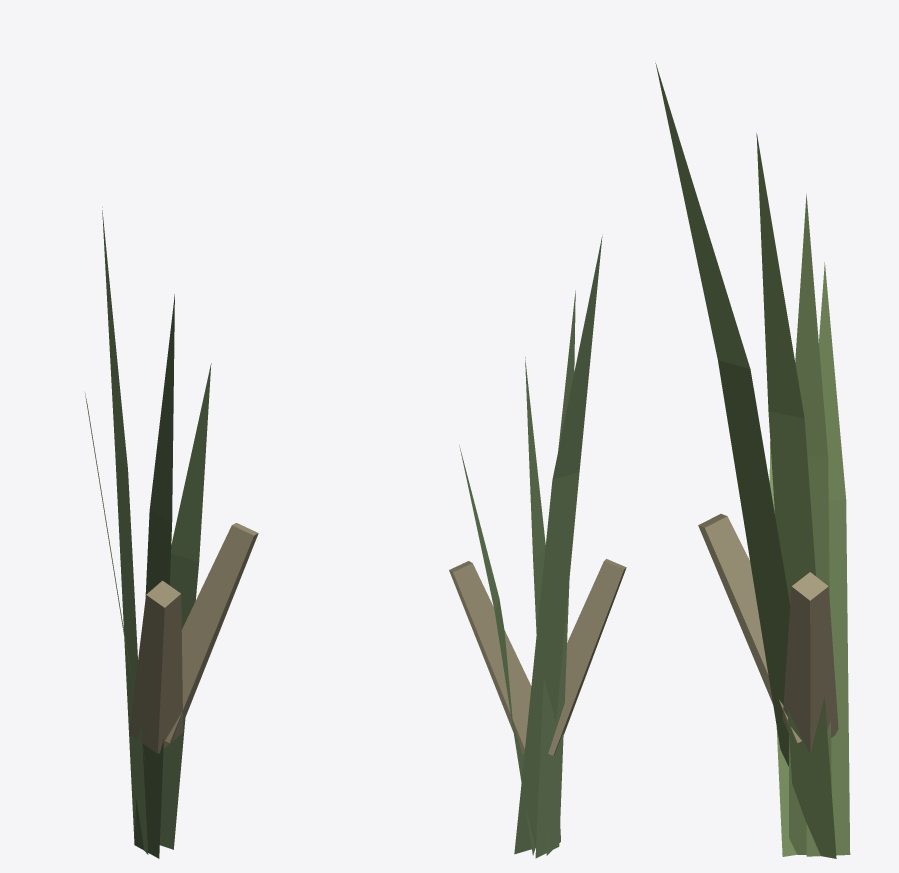
The model's file is shui.changpu@subadult__bloom.glb.
The picture shows the model from 3 angles, left to right: view 1: azimuth 30°, elevation 25°; view 2: azimuth 150°, elevation 25°; view 3: azimuth 270°, elevation 25°; orthographic projection. The views are drawn at different scales.
Visible parts, largest first — view 1: shui.changpu@subadult__bloom; view 2: shui.changpu@subadult__bloom; view 3: shui.changpu@subadult__bloom.
Part boxes in pixels (bbox=[...]): shui.changpu@subadult__bloom: bbox=[85, 207, 258, 858]; shui.changpu@subadult__bloom: bbox=[449, 234, 626, 858]; shui.changpu@subadult__bloom: bbox=[655, 63, 850, 858].
Bounding box in the file's own units: 0.3223 × 0.8938 × 0.2103.
